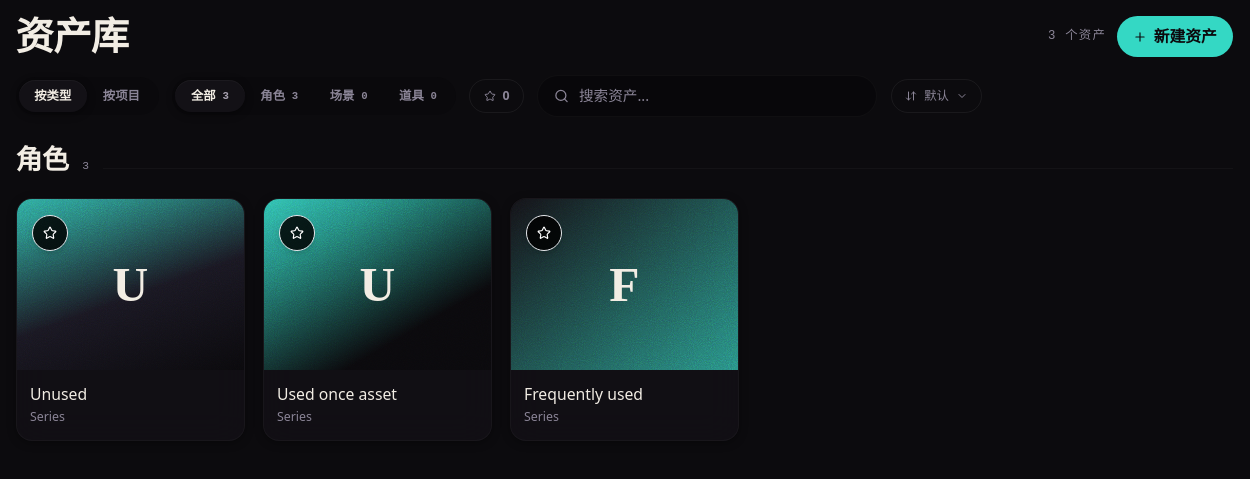
Asset Library usage sorting › renders natural zero, singular, and plural usage labels in Chinese
Step 1. Click the button with aria-label "排序" → (937,96), box [891, 79, 982, 113]
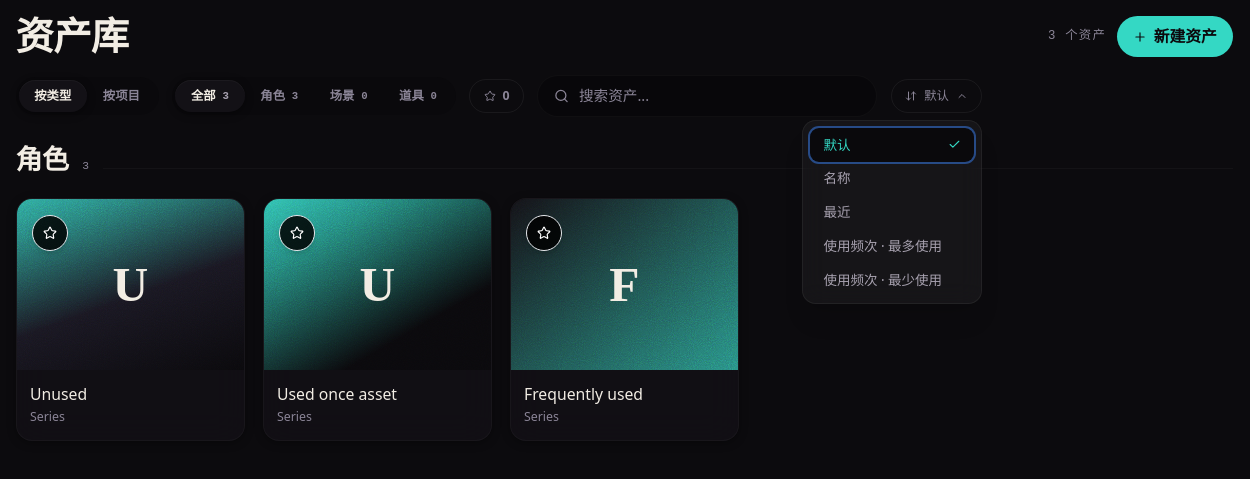
Step 2. Click the option "使用频次 · 最多使用" → (892,246), box [810, 229, 974, 263]
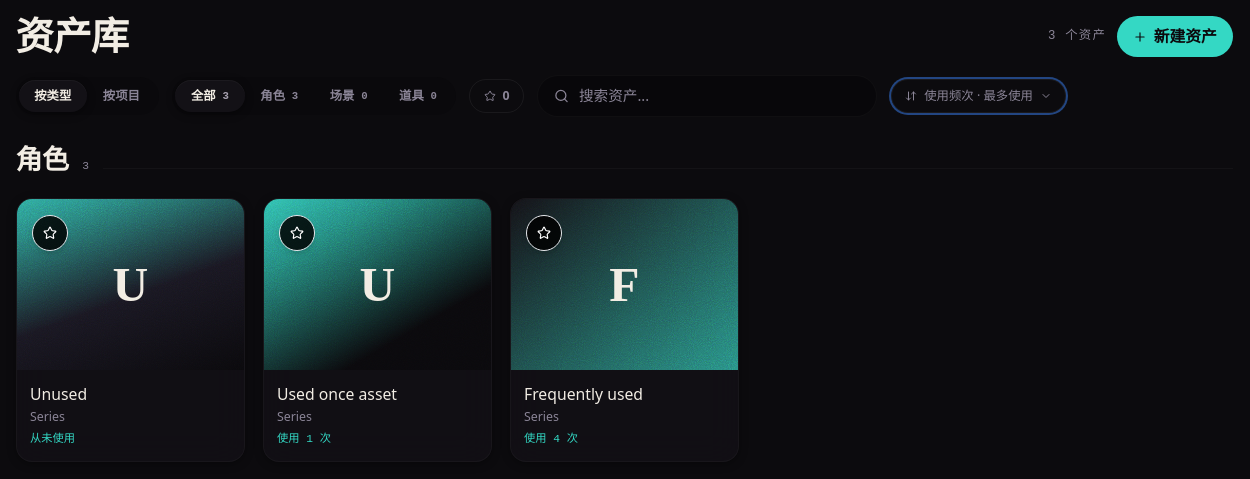
Now the text "从未使用" is shown, box [30, 433, 75, 445]
Now the text "使用 1 次" is shown, box [277, 433, 331, 445]
Now the text "使用 4 次" is shown, box [524, 433, 578, 445]
